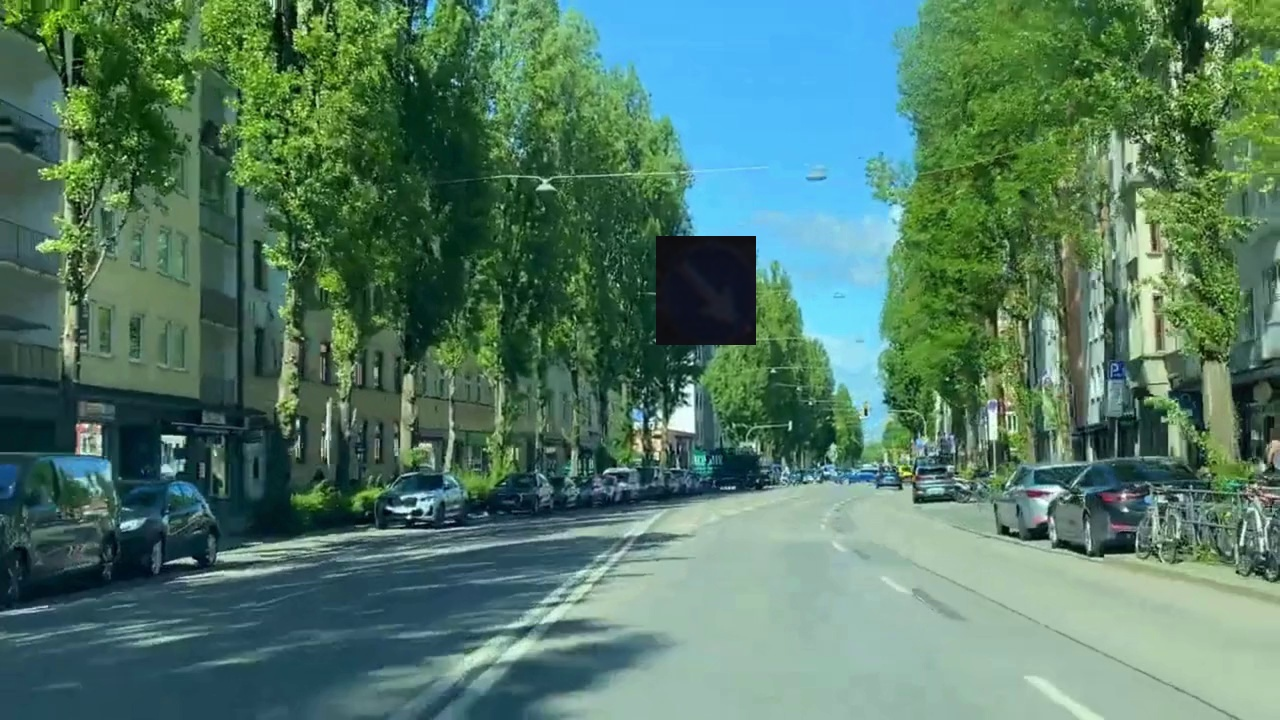Keep right: (656, 236, 756, 345)
